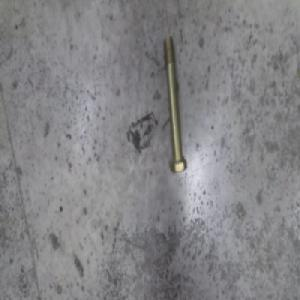Bolt: (162, 36, 187, 171)
